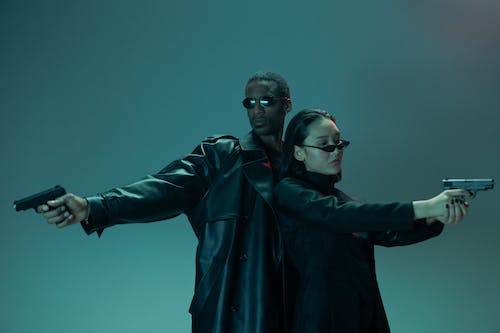gun: (12, 184, 72, 220), (440, 175, 496, 201)
